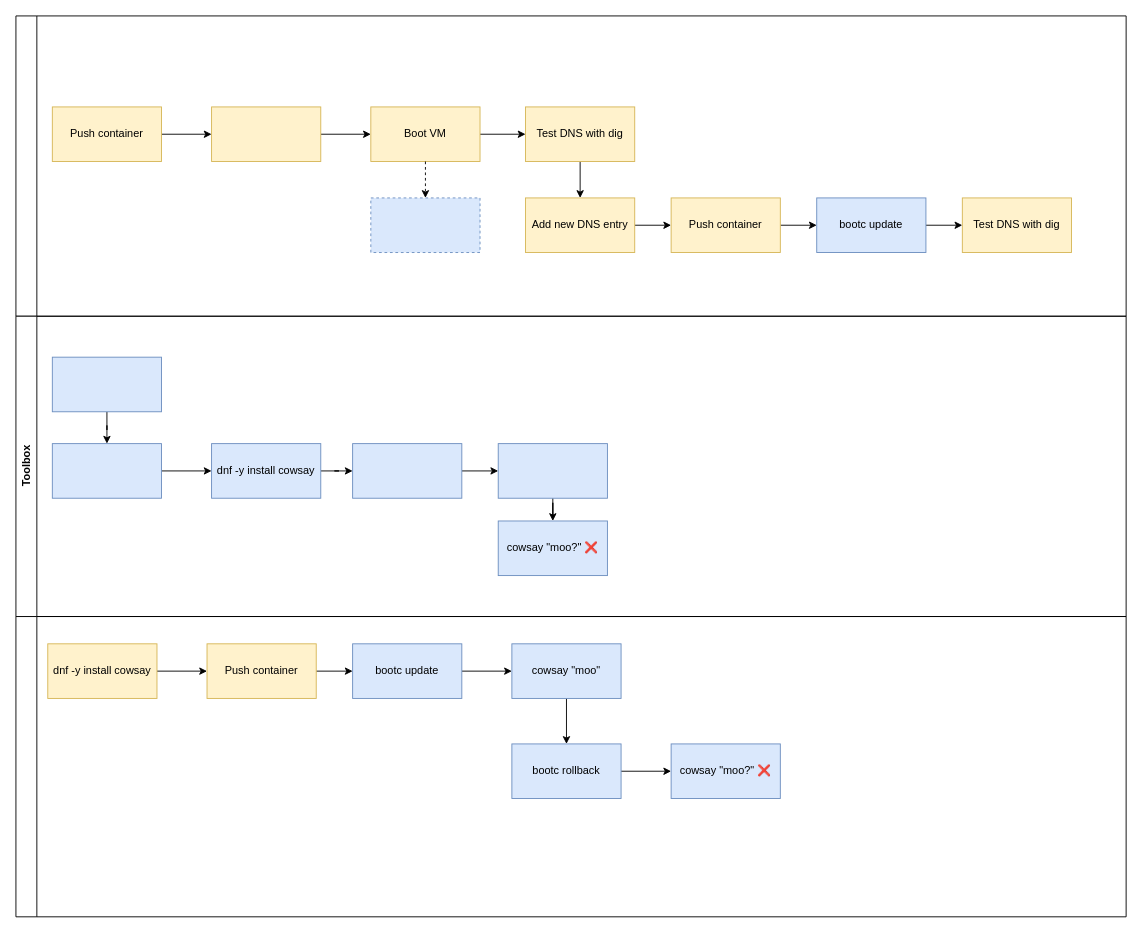
This 1142x933 diagram has some shape labels left out. The shapes that lost their labels are listed below. From the top down, each one's box as (x1, y1, x2, y2) in pixels, then its label:
(211, 106, 321, 162): Build .qcow2
(15, 15, 1126, 316): Golden path
(370, 197, 480, 253): switch to host registry
(51, 356, 162, 412): dnf -y install cowsay fails
(51, 443, 162, 498): Toolbox enter
(352, 443, 462, 498): cowsay "I am a tool"
(497, 443, 607, 498): toolbox exit
(15, 616, 1126, 917): Rollback
